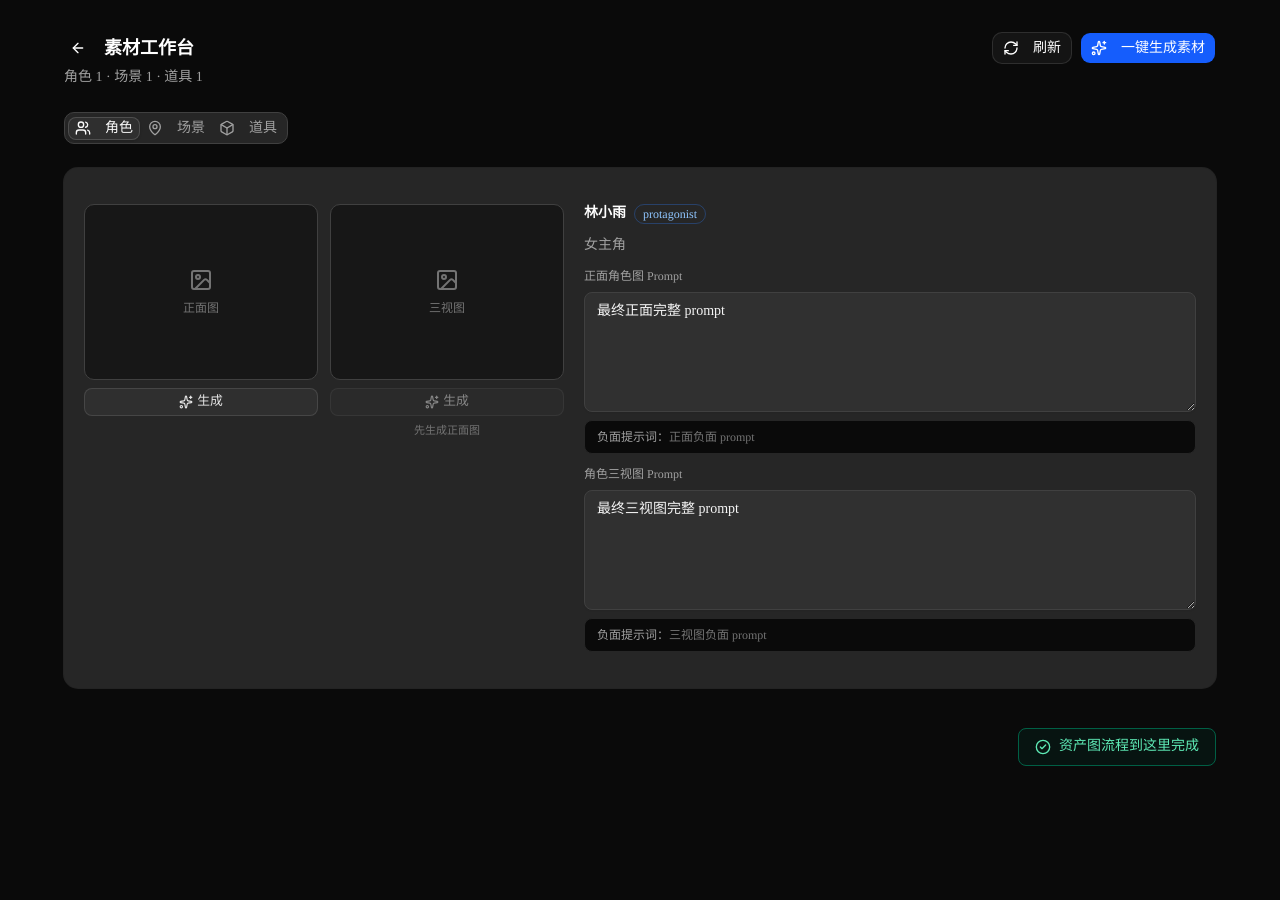
Scenario: project assets page › loads final prompt previews into the workbench prompt editors
Expected: the text box showing "最终正面完整 prompt" below "正面角色图 Prompt" is shown, [584,292,1196,412]
Expected: the text box showing "最终三视图完整 prompt" below "角色三视图 Prompt" is shown, [584,490,1196,610]
Click the tab "场景" at {"x": 176, "y": 128}, box [140,116,212,140]
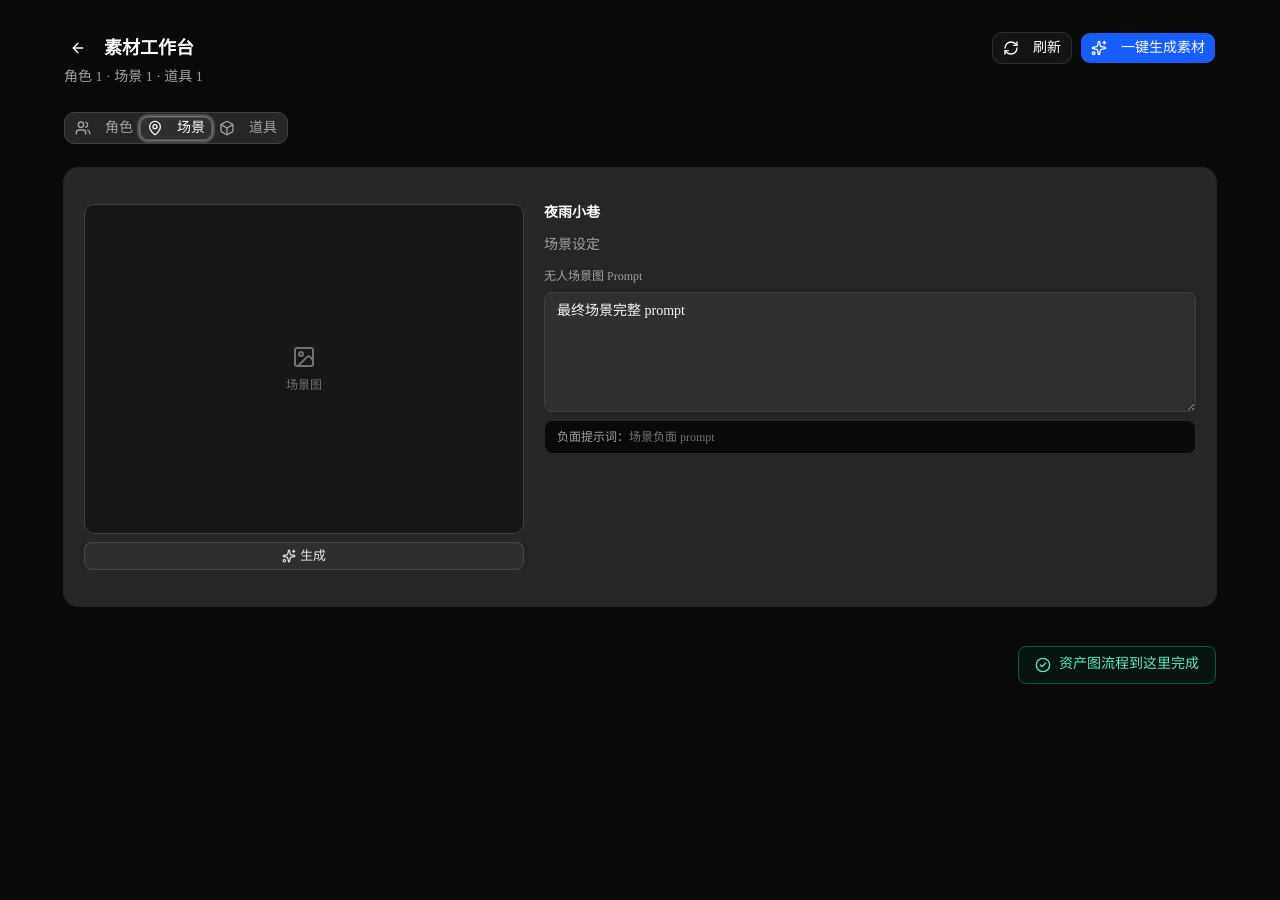
Result: the text box showing "最终场景完整 prompt" is shown at [544,292,1196,412]
Click the tab "道具" at {"x": 248, "y": 128}, box [212,116,284,140]
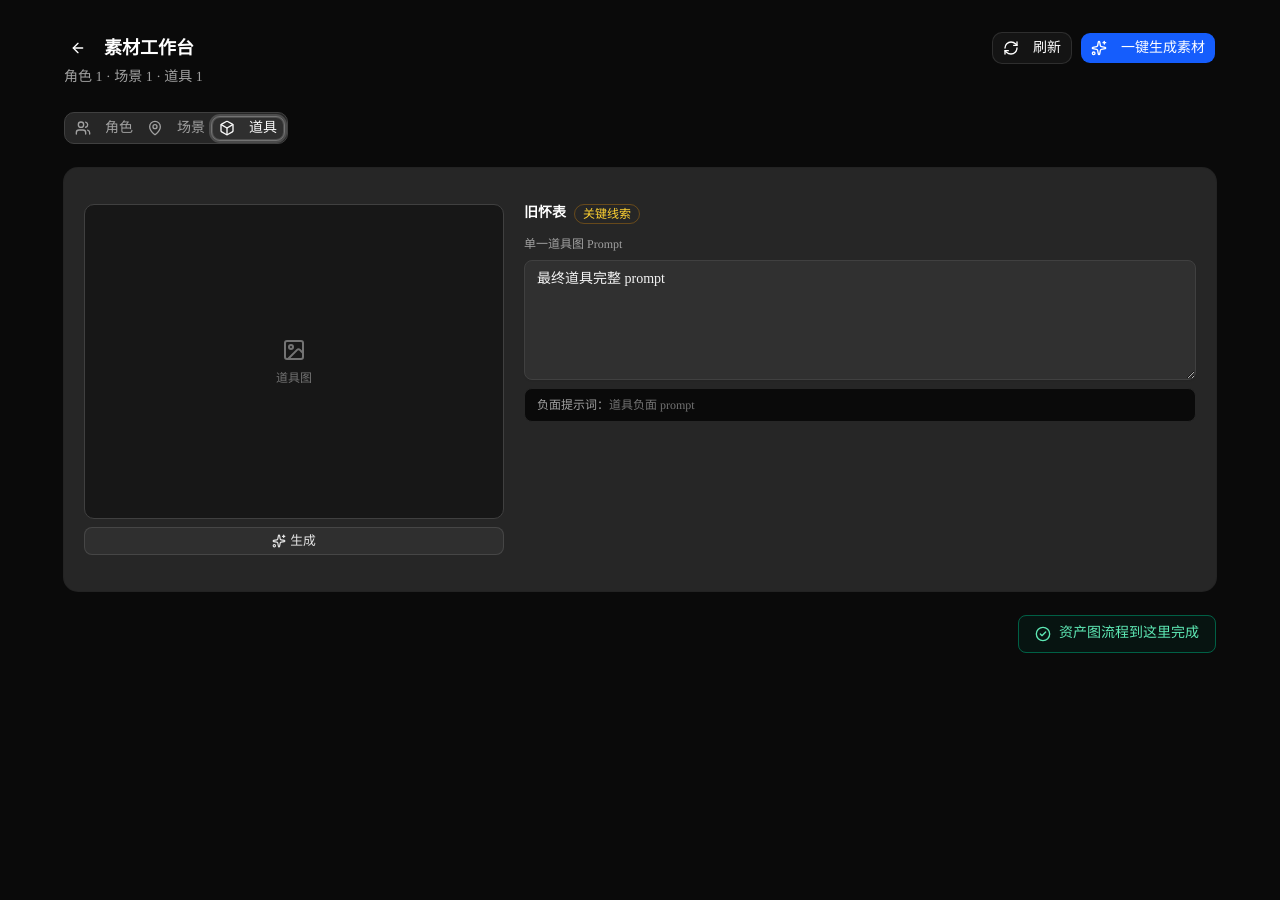
Result: the text box showing "最终道具完整 prompt" is shown at [524,260,1196,380]
